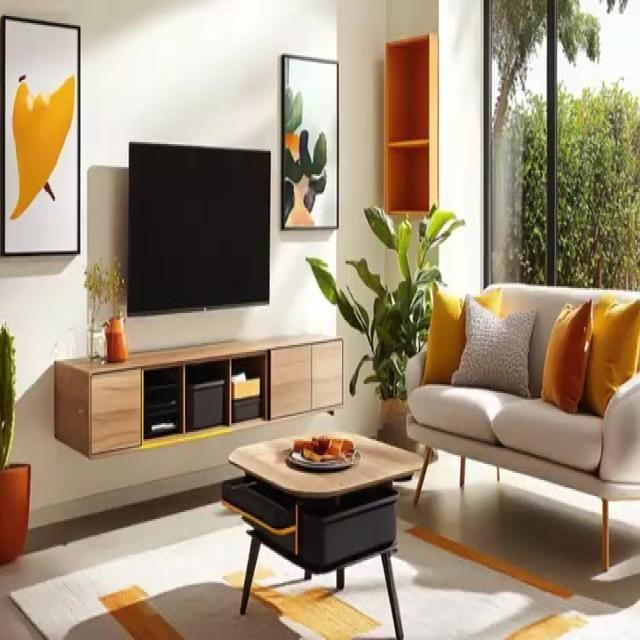obstacle: (404, 281, 639, 571), (223, 428, 431, 636), (53, 332, 343, 460)
